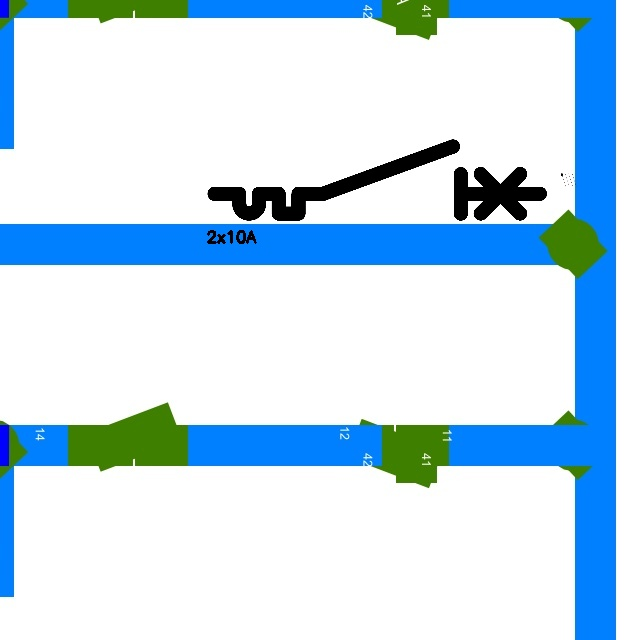interruptor_termomagnetico: (206, 138, 548, 222)
